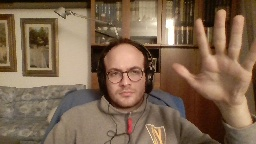Mano_aperta: (169, 6, 255, 107)
